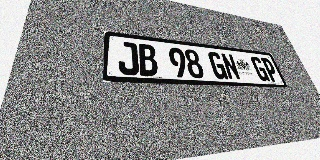8: (183, 49, 205, 78)
9: (168, 47, 189, 78)
B: (137, 43, 159, 76)
G: (207, 51, 229, 80), (250, 56, 270, 81)
J: (118, 41, 139, 75)
N: (220, 53, 241, 80)
P: (260, 57, 281, 82)
